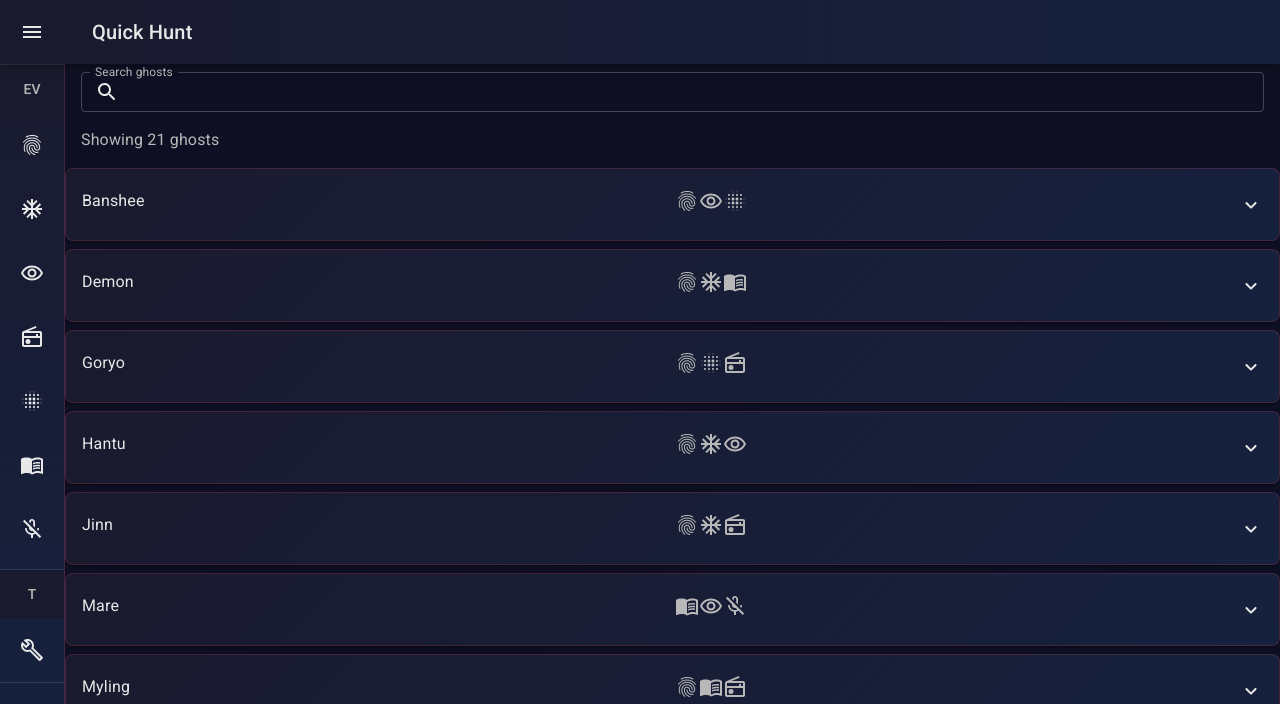
search filters visible ghosts and reset clears search
This screenshot has width=1280, height=704.
Expected: the text "Showing 21 ghosts" is shown, [81,130,219,149]
Type "banshee" into the field labelled "Search ghosts" at [696, 92], box [127,72,1264,112]
(page scrolled)
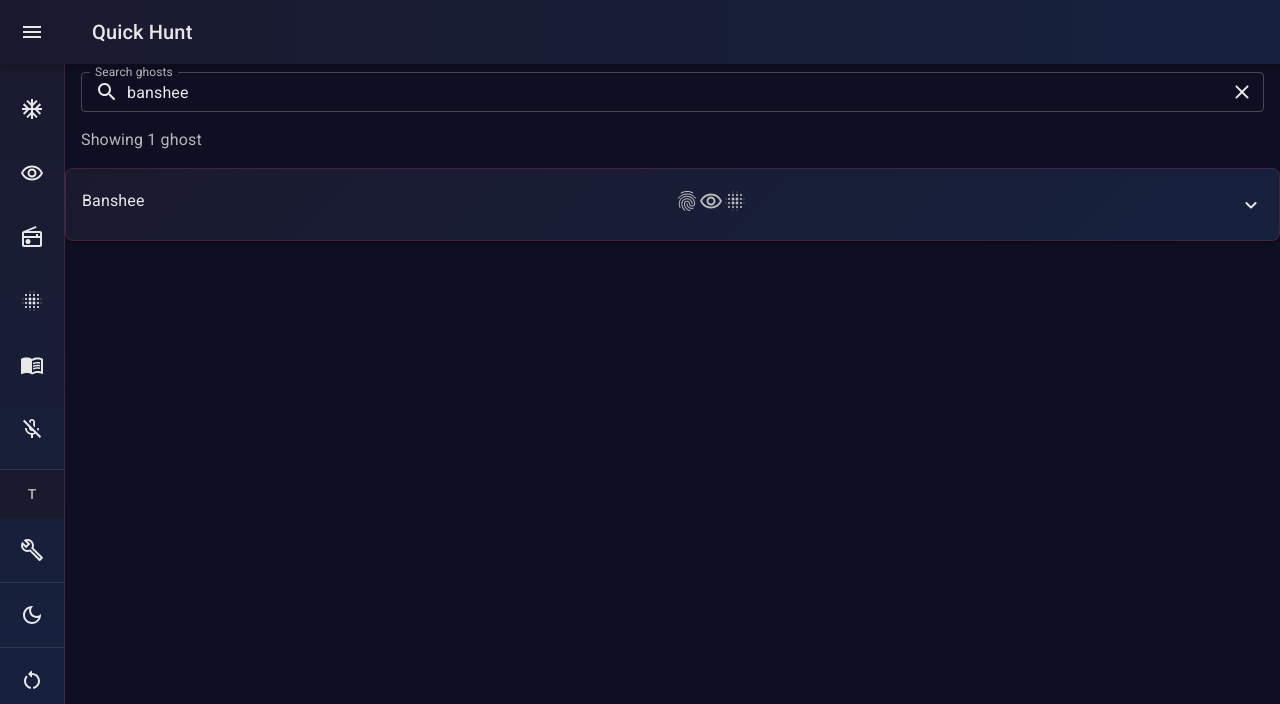
Expected: the button with aria-label "banshee details" is shown, [82,189,1263,216]
Expected: the text "Showing 1 ghost" is shown, [81,130,202,149]
Click the 3rd button named "restart" at [32, 680], box [20,668,44,692]
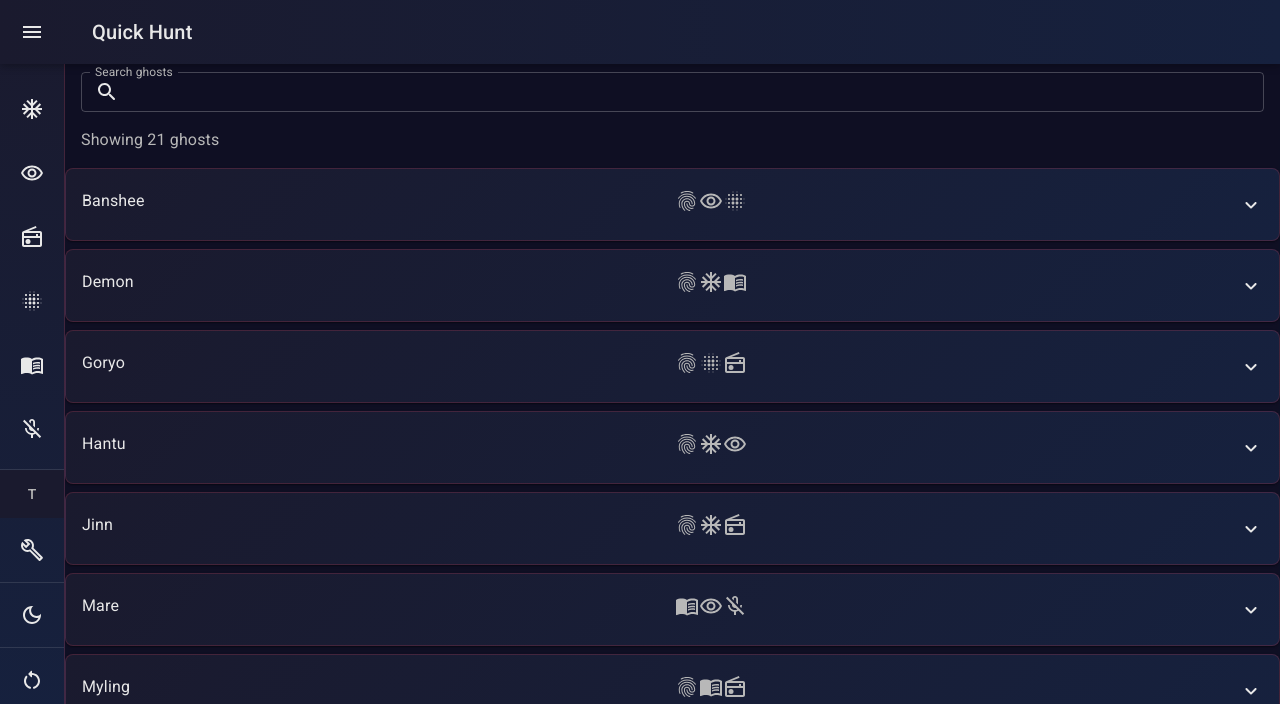
Expected: the field labelled "Search ghosts" is empty, [127,72,1264,112]
Expected: the text "Showing 21 ghosts" is shown, [81,130,219,149]
